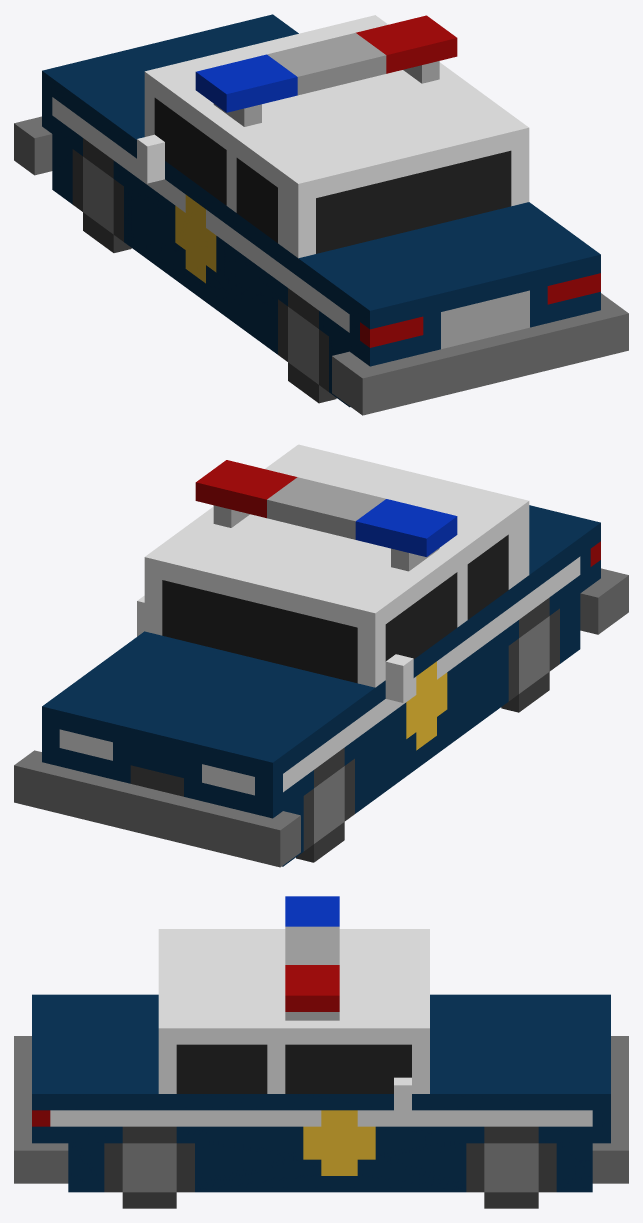
Rendered from cars.obj.
3 renders of one model, top to bottom at view 1: azimuth 30°, elevation 25°; view 2: azimuth 150°, elevation 25°; view 3: azimuth 270°, elevation 25°, orthographic. The views are drawn at different scales.
Size of the model in its own units: 1.5 by 1.3 by 3.4.
1 material, 1 textured.
